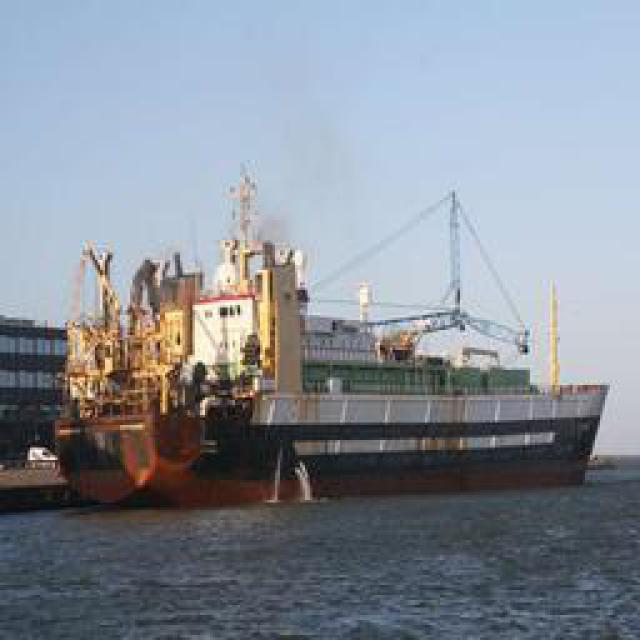Ship: (56, 164, 616, 494)
